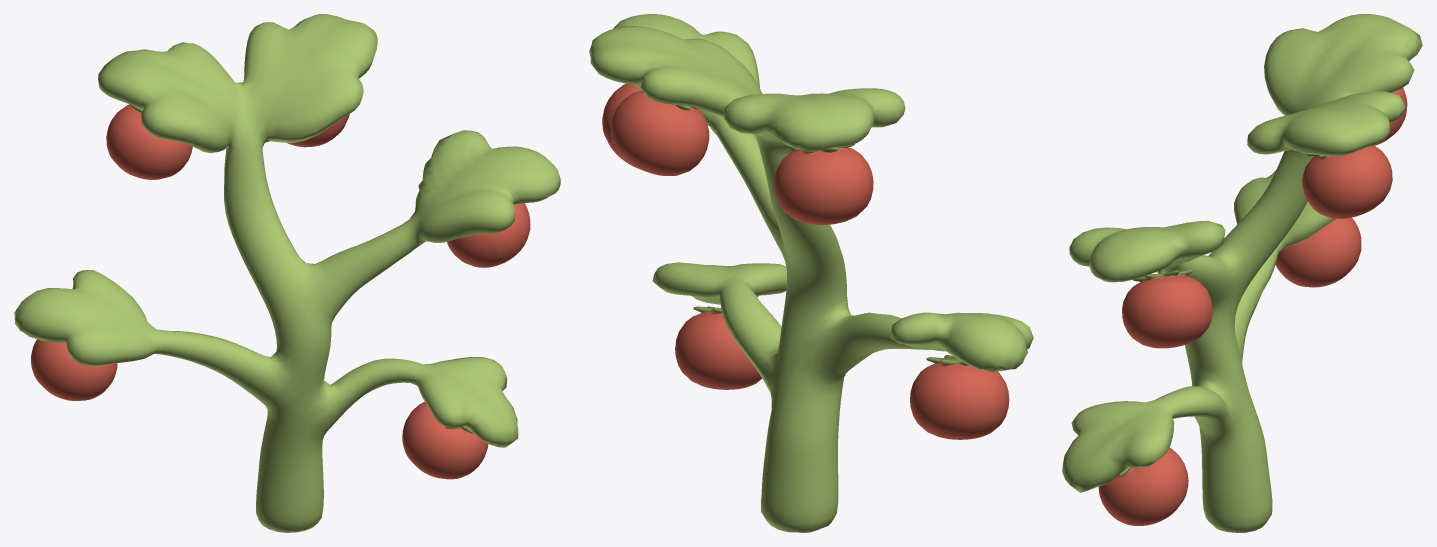
The model's file is tomatobase.fbx.
The picture shows the model from 3 angles, left to right: view 1: azimuth 30°, elevation 25°; view 2: azimuth 150°, elevation 25°; view 3: azimuth 270°, elevation 25°; orthographic projection. The views are drawn at different scales.
Parts seen in each view (by area): view 1: TomatoBase, Tomato.004, Tomato.001, Tomato.002, Tomato.003; view 2: TomatoBase, Tomato.002, Tomato.001, Tomato, Tomato.004, Tomato.003; view 3: TomatoBase, Tomato.003, Tomato, Tomato.004, Tomato.002.
Boxes of the visible parts, bbox=[...] form: TomatoBase: bbox=[14, 14, 560, 532]; Tomato.004: bbox=[402, 402, 488, 479]; Tomato.001: bbox=[106, 104, 192, 179]; Tomato.002: bbox=[31, 339, 117, 400]; Tomato.003: bbox=[447, 203, 530, 267]; TomatoBase: bbox=[589, 14, 1033, 532]; Tomato.002: bbox=[910, 355, 1009, 439]; Tomato.001: bbox=[774, 144, 873, 224]; Tomato: bbox=[610, 90, 709, 175]; Tomato.004: bbox=[675, 306, 761, 389]; Tomato.003: bbox=[602, 83, 641, 168]; TomatoBase: bbox=[1062, 14, 1422, 532]; Tomato.003: bbox=[1122, 268, 1212, 348]; Tomato: bbox=[1302, 145, 1392, 218]; Tomato.004: bbox=[1098, 447, 1188, 525]; Tomato.002: bbox=[1275, 217, 1361, 287].
Size of the model in its own units: 0.6191 by 0.5848 by 0.4162.
2 materials, 2 textured.
